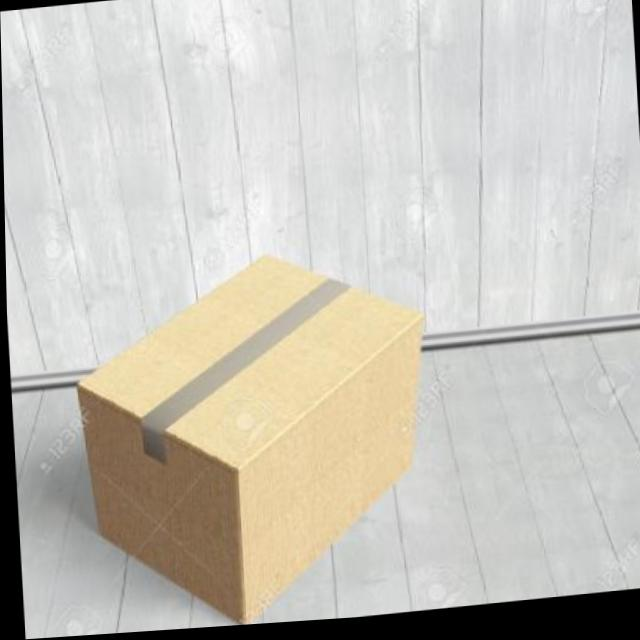box: (50, 234, 454, 638)
